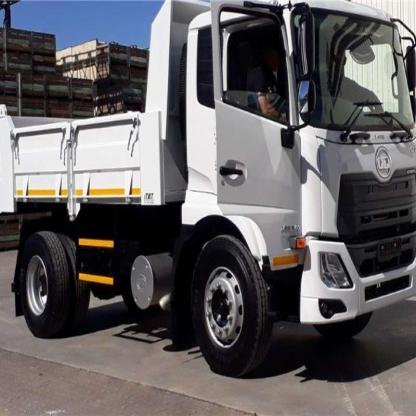dump_truck: (8, 4, 416, 389)
